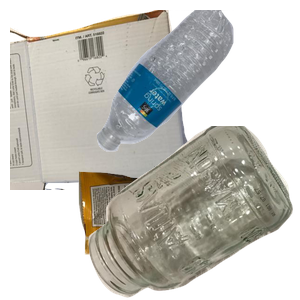cardboard: (10, 10, 191, 190)
glass: (86, 126, 300, 300)
plastic: (94, 10, 300, 154)
trash: (76, 159, 259, 300)
